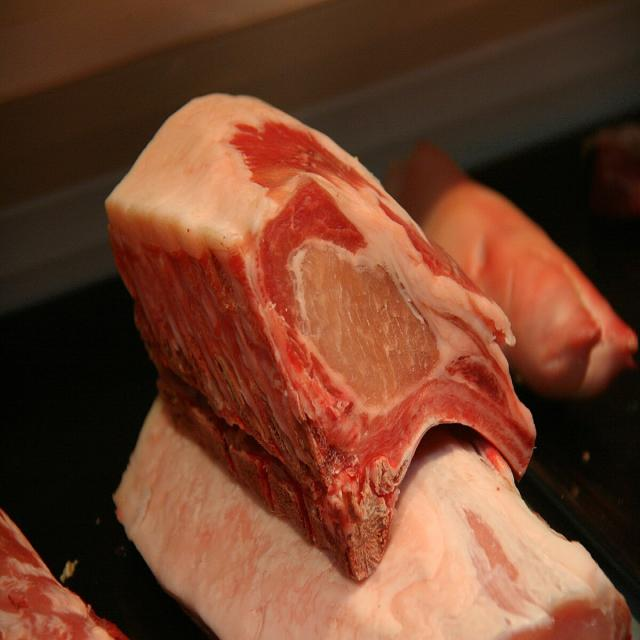carne de cerdo: (89, 76, 548, 583)
